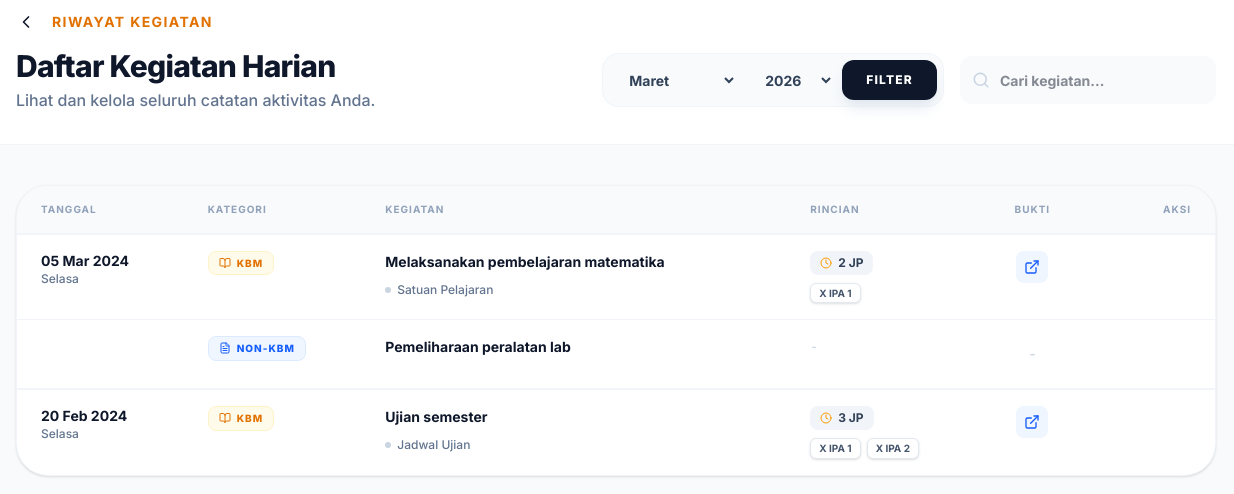
Scenario: ActivitiesClient › should filter activities by search query
This screenshot has width=1234, height=494.
Type "matematika" into the field with placeholder "Cari kegiatan..." at [1088, 80], box [960,56,1216,104]
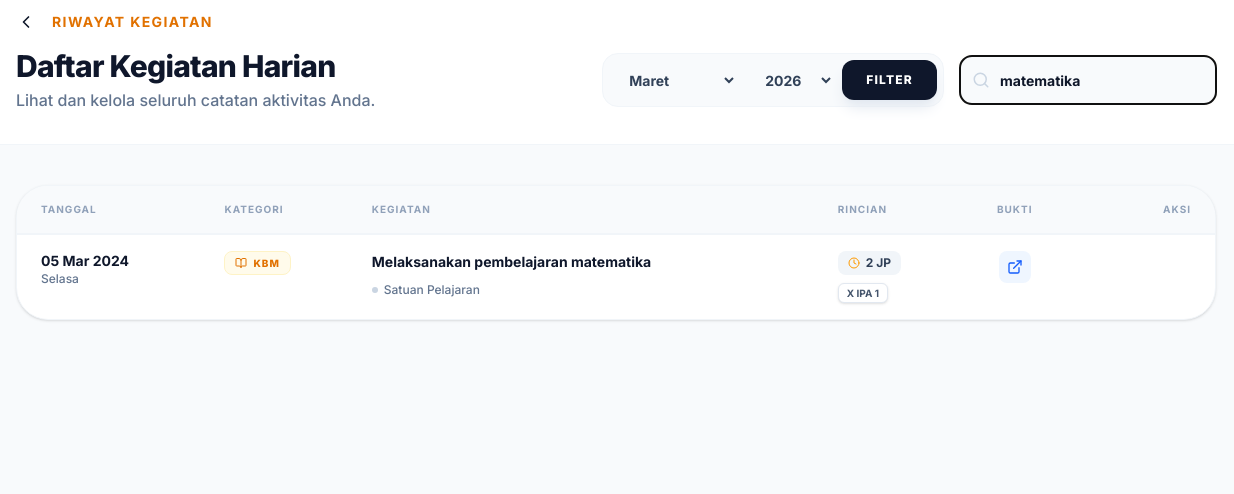
Expected: the text "Melaksanakan pembelajaran matematika" is shown, [372,253,651,270]
Expected: the text "Pemeliharaan peralatan lab" is gone
